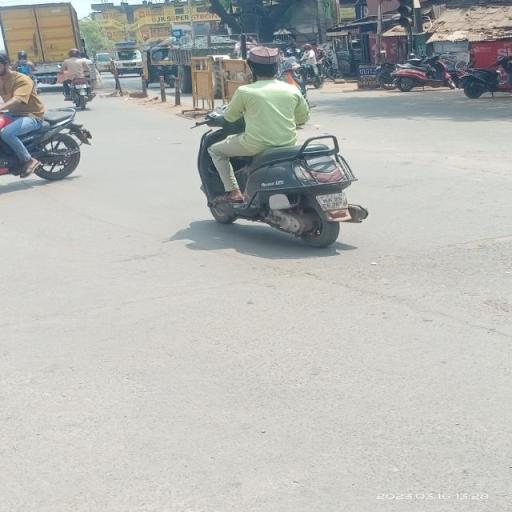bike: (182, 46, 370, 246)
numberplate: (314, 190, 348, 213)
withouthelmet: (246, 47, 280, 78)
